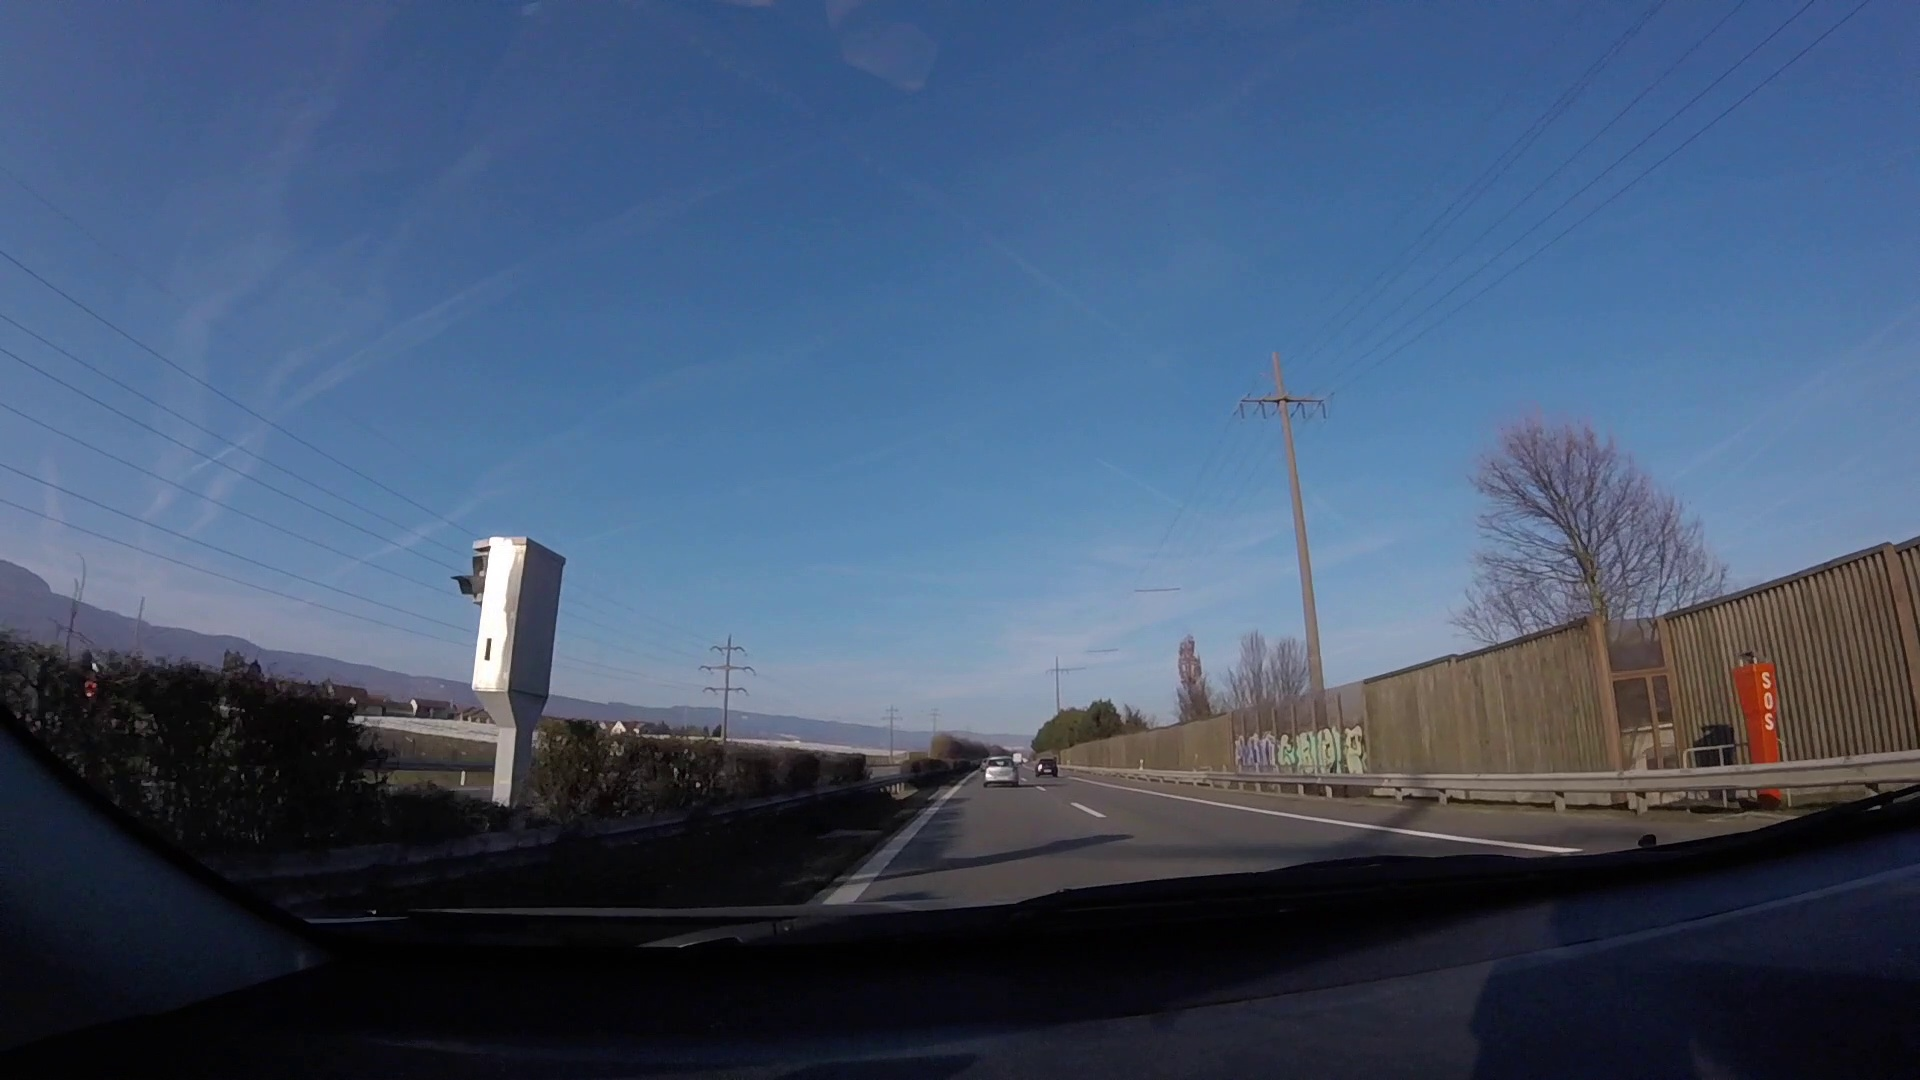radar: (455, 534, 571, 810)
